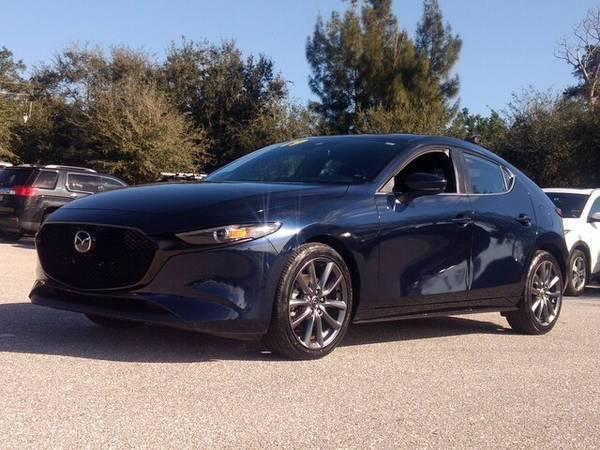Front_Bumper: (26, 231, 280, 335)
Front_Fender: (203, 187, 377, 321)
Front_Left_Door: (372, 193, 471, 316)
Front_Left_Window: (376, 146, 467, 193)
Front_Windshield: (201, 134, 412, 184)
Grille: (37, 220, 158, 290)
Hood: (44, 180, 348, 239)
Left_Headlight: (175, 223, 280, 250)
Rear_Fender: (530, 191, 567, 253)
Rear_Left_Door: (466, 179, 536, 307)
Rear_Left_Window: (460, 148, 517, 192)
Roof: (308, 132, 551, 201)
Wheel: (275, 242, 356, 353), (522, 253, 565, 333)
